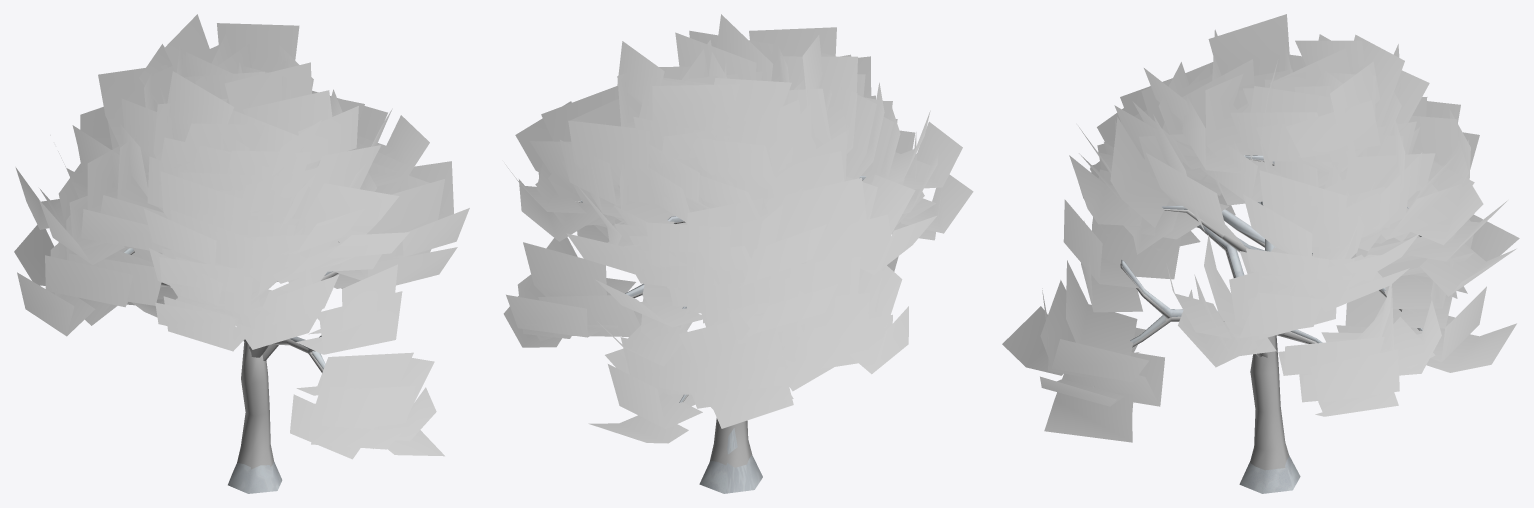
Rendered from Tree_Medium_3_Snow.fbx.
3 views of the same model, side by side, from view 1: azimuth 30°, elevation 25°; view 2: azimuth 150°, elevation 25°; view 3: azimuth 270°, elevation 25° (orthographic). The views are drawn at different scales.
Parts seen in each view (by area): view 1: Tree_Medium_3_Snow_LOD0; view 2: Tree_Medium_3_Snow_LOD0; view 3: Tree_Medium_3_Snow_LOD0.
Part boxes in pixels (left/top/right/bottom): Tree_Medium_3_Snow_LOD0: left=14, top=14, right=469, bottom=493; Tree_Medium_3_Snow_LOD0: left=503, top=14, right=973, bottom=493; Tree_Medium_3_Snow_LOD0: left=1002, top=14, right=1519, bottom=493.
Size of what is drawn, in the model's own units: 1369 by 1453 by 1581.
